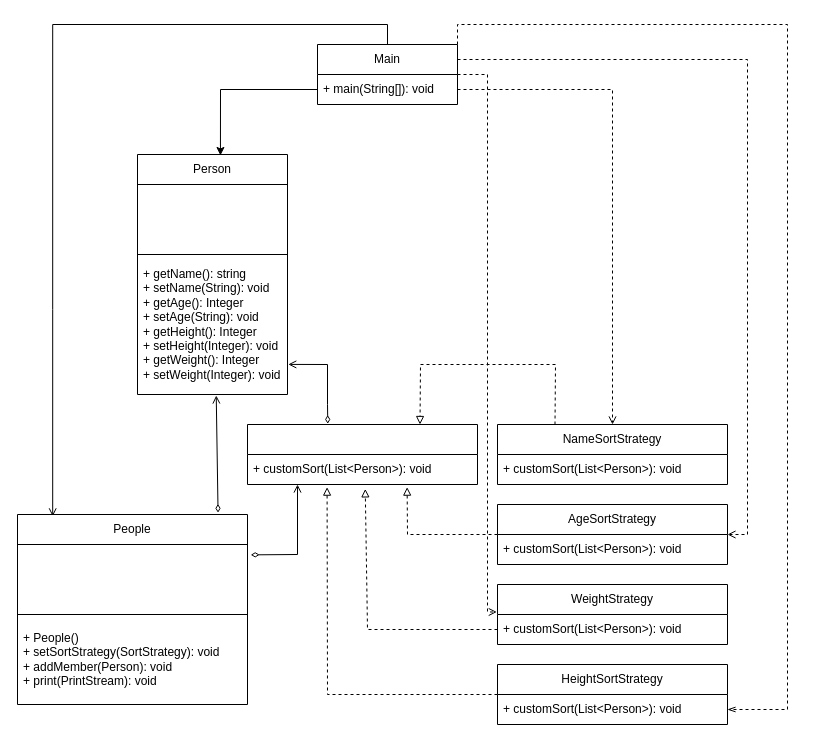
This 813x742 diagram has some shape labels left out. Here are the shapes that lost their labels. From the top down, the box of each, then its label:
(136, 184, 288, 254): - name:String - age: Integer - height: Integer - weight: Integer
(246, 424, 478, 484): << Interface >> SortStrategy
(16, 544, 248, 614): - members: List<Person> - sortStrategy: SortStrategy
